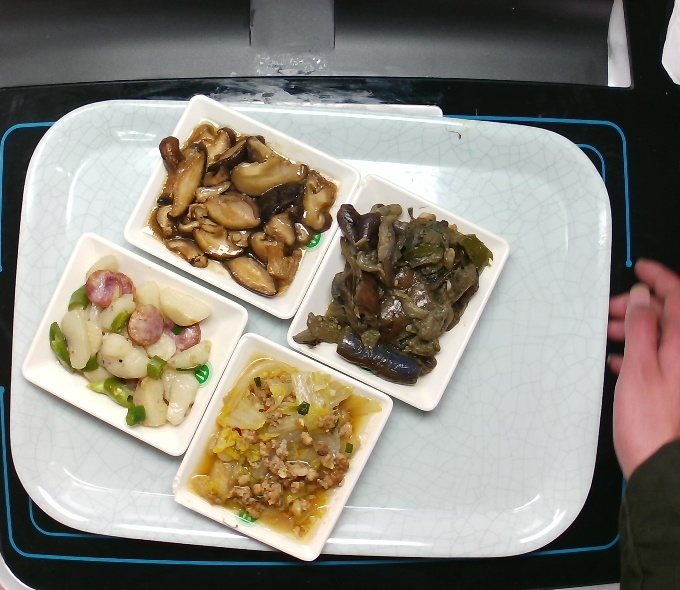wcq-MaTiGuo: (50, 248, 217, 437)
wcq-MoGu: (155, 125, 342, 295)
wcq-QieZi: (298, 193, 494, 385)
wcq-RouMoBaiCai: (187, 364, 368, 528)
